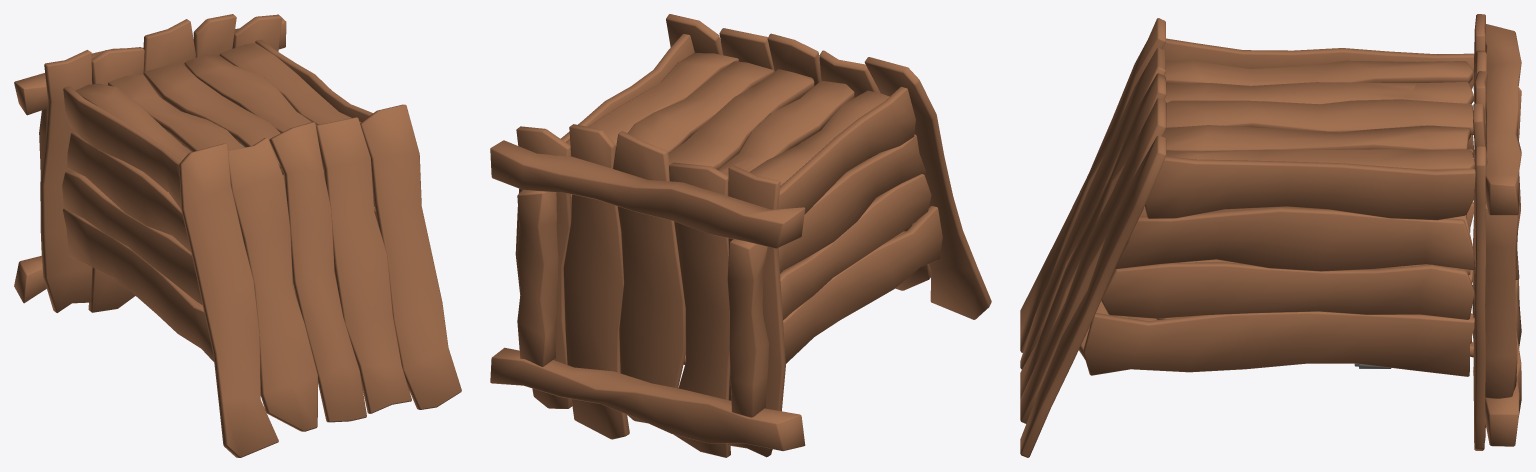
The model's file is turd_cabin.glb.
3 views of the same model, side by side, from view 1: azimuth 30°, elevation 25°; view 2: azimuth 150°, elevation 25°; view 3: azimuth 270°, elevation 25° (orthographic). The views are drawn at different scales.
Parts seen in each view (by area): view 1: turd_cabin; view 2: turd_cabin; view 3: turd_cabin.
Boxes of the visible parts, <box> form: turd_cabin: <box>14,14,461,457</box>; turd_cabin: <box>490,14,991,457</box>; turd_cabin: <box>1020,14,1521,457</box>.
Size of the model in its own units: 13.42 by 13.19 by 17.53.
